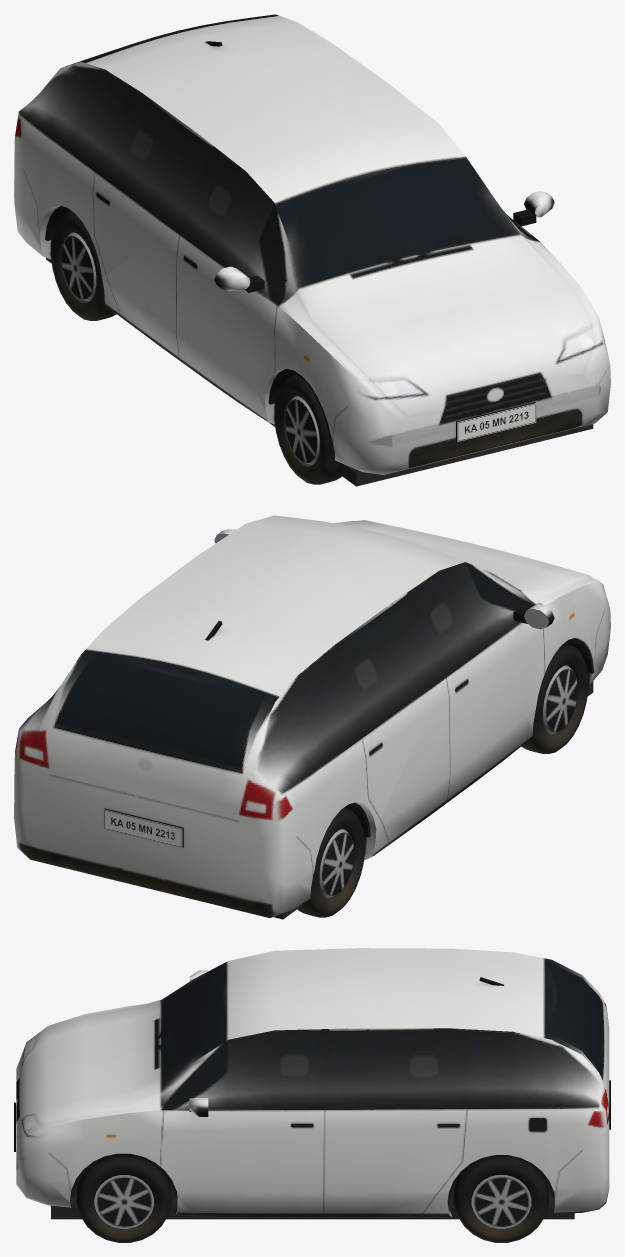
File: car_hatchback.glb
3 renders of one model, top to bottom at view 1: azimuth 30°, elevation 25°; view 2: azimuth 150°, elevation 25°; view 3: azimuth 270°, elevation 25°, orthographic. The views are drawn at different scales.
Visible parts, largest first — view 1: car_hatchback; view 2: car_hatchback; view 3: car_hatchback.
Boxes of the visible parts, x1=… form: car_hatchback: x1=14, y1=14, x2=610, y2=486; car_hatchback: x1=14, y1=515, x2=610, y2=919; car_hatchback: x1=14, y1=948, x2=610, y2=1242.
Bounding box in the file's own units: 2.12 × 1.53 × 3.88.
1 material, 1 textured.
